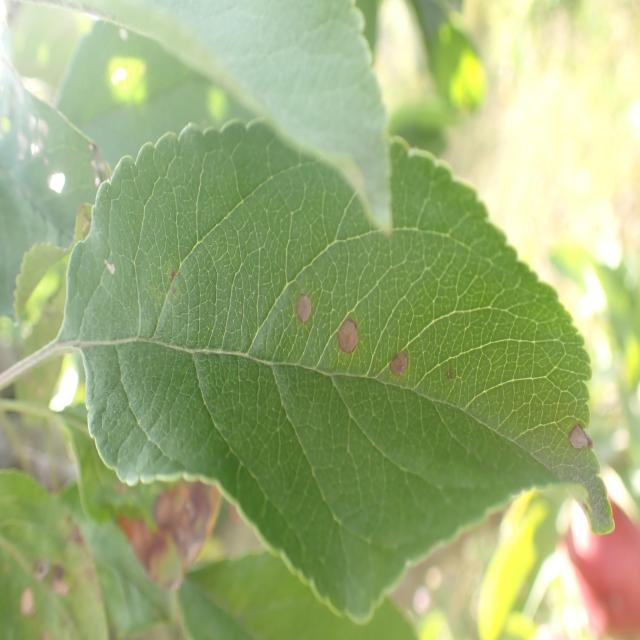frog-eye-leaf-spot: (58, 116, 614, 624)
